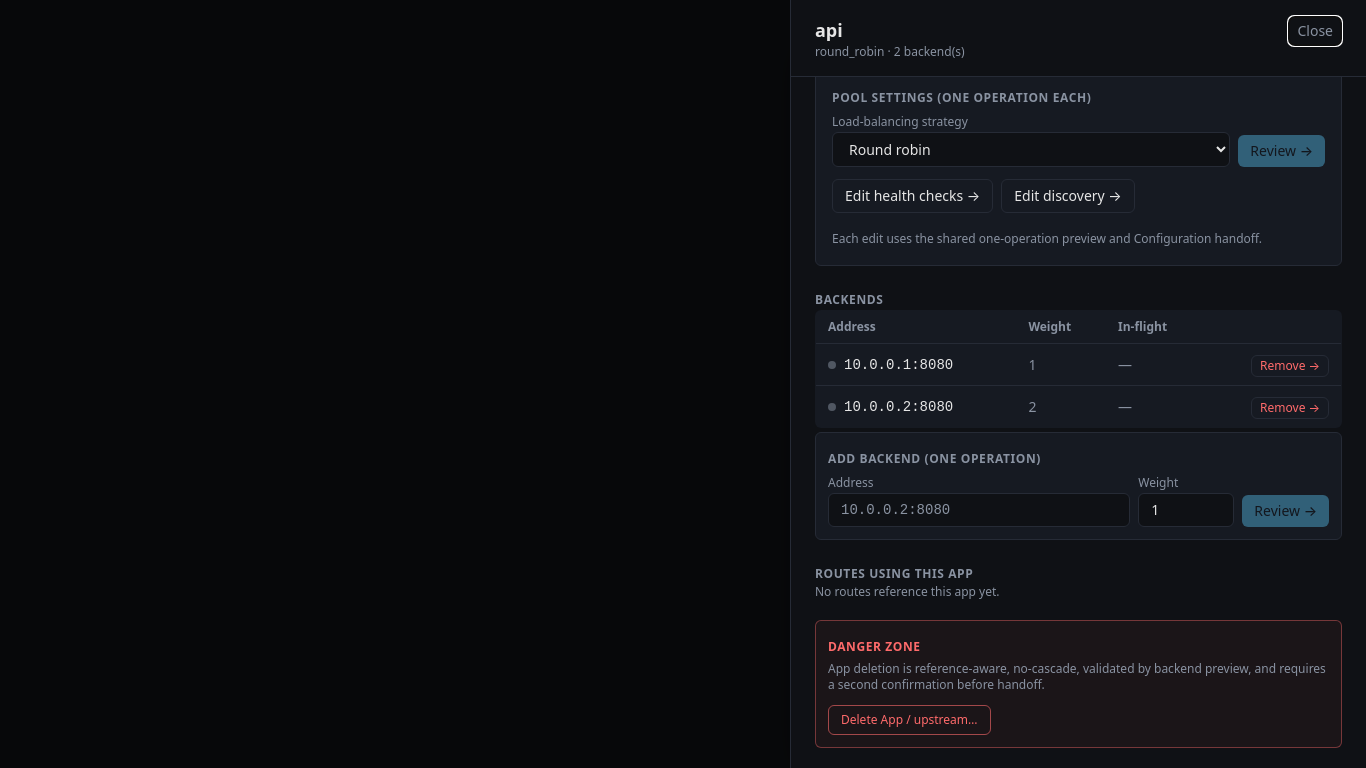
Test: AppDetail reference-aware deletion › previews exactly one no-cascade removal and cancel performs no handoff
(page scrolled)
Click the button "Delete App / upstream…" at (909, 720), box [828,705,991,735]
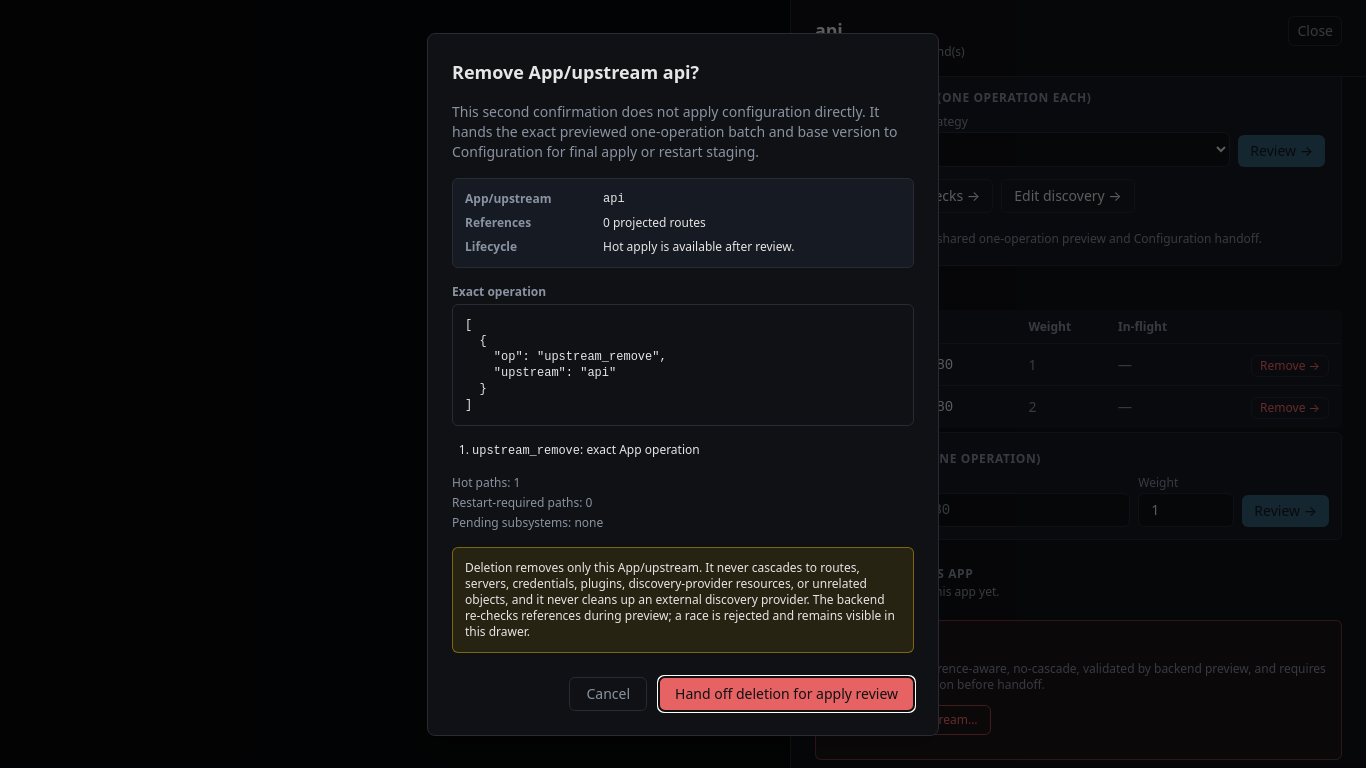
Now the text "0 projected routes" is shown, box [603,214,706,230]
Now the text "never cascades to routes, servers" is shown, box [465,558,895,640]
Now the text "Hot apply is available after review." is shown, box [603,238,794,254]
Click the button "Cancel" at (608, 694), box [570,676,647,710]
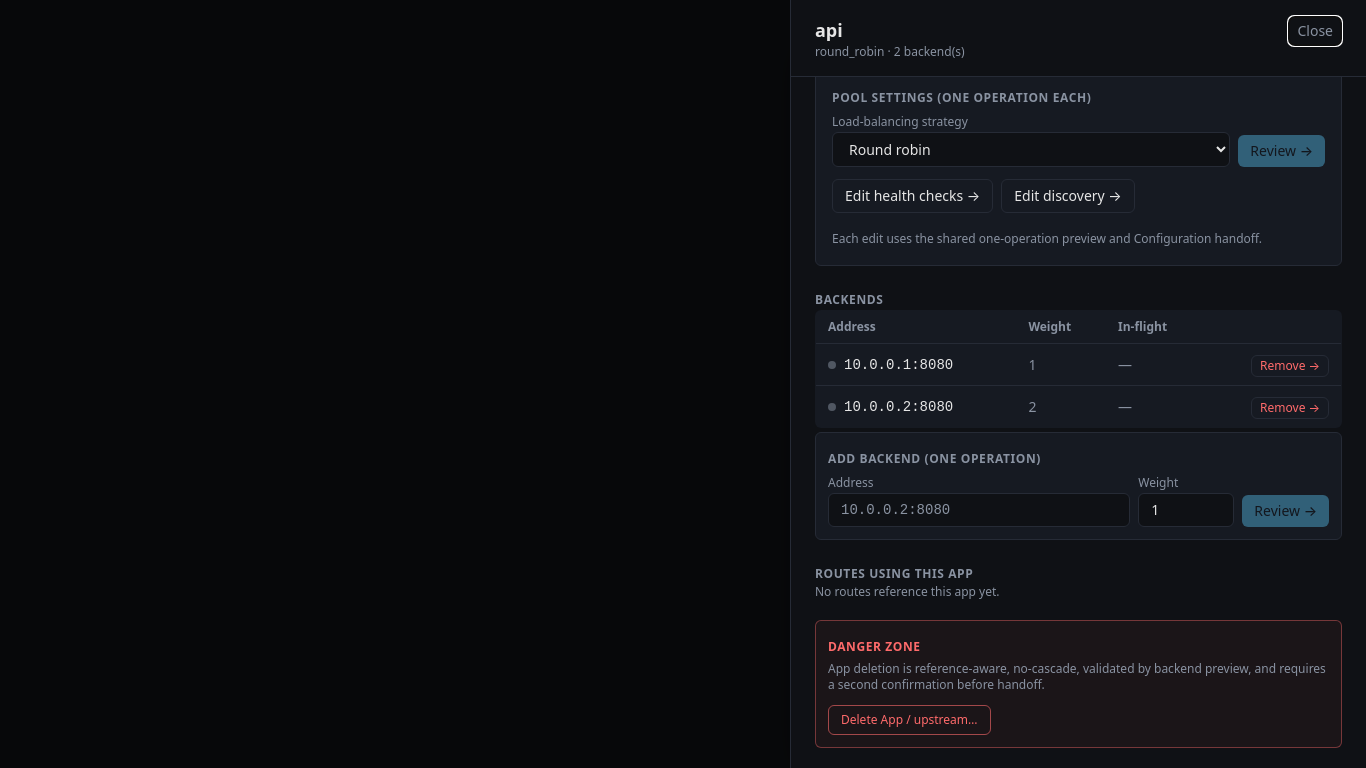
Now the heading "Remove App/upstream api?" is gone
